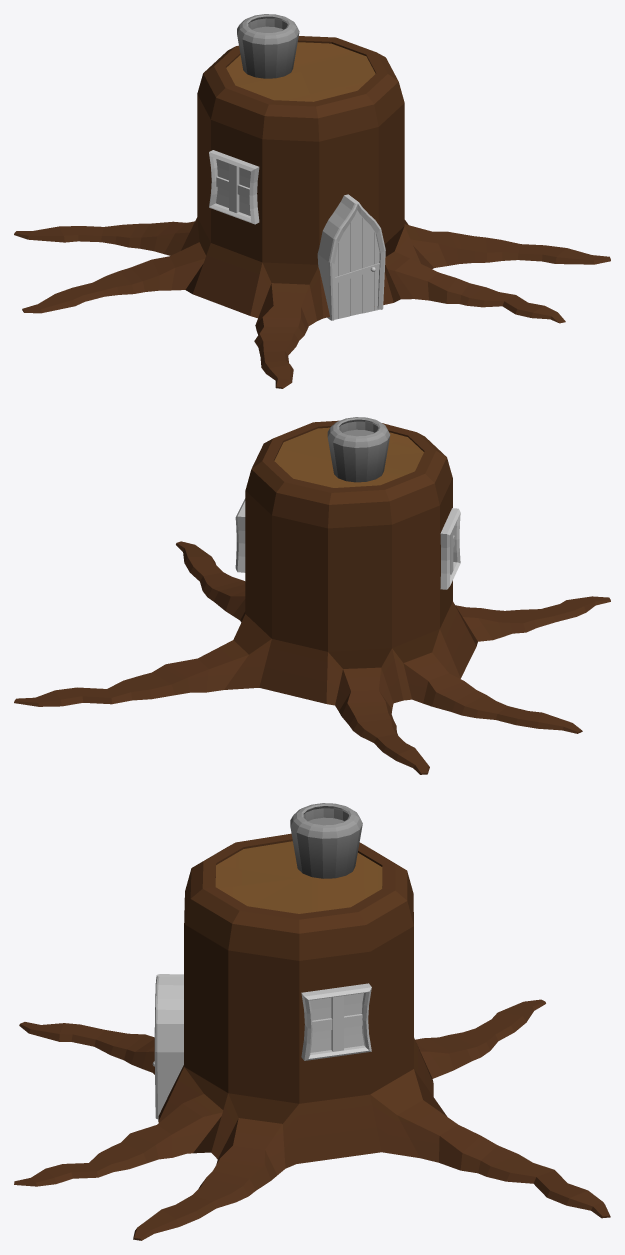
The model's file is CasaBufo_elementosDecorativos_T.fbx.
3 renders of one model, top to bottom at view 1: azimuth 30°, elevation 25°; view 2: azimuth 150°, elevation 25°; view 3: azimuth 270°, elevation 25°, orthographic. The views are drawn at different scales.
Parts seen in each view (by area): view 1: Arbol grande.005, Puerta 3, Ventana cuadrada; view 2: Arbol grande.005, Ventana cuadrada; view 3: Arbol grande.005, Ventana cuadrada, Puerta 3.
Boxes of the visible parts, x1,y1,x2,y2 form: Arbol grande.005: (14,14,610,388); Puerta 3: (317,194,385,320); Ventana cuadrada: (209,150,259,224); Arbol grande.005: (14,417,610,774); Ventana cuadrada: (235,498,460,589); Arbol grande.005: (14,803,610,1240); Ventana cuadrada: (301,983,371,1060); Puerta 3: (152,974,183,1119).
Size of the model in its own units: 5269 by 2462 by 4737.
